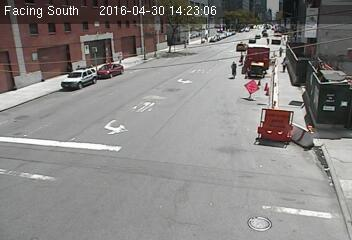neg: (59, 68, 84, 102), (113, 54, 138, 87), (247, 200, 268, 228), (170, 169, 189, 195), (164, 84, 183, 110), (118, 120, 133, 140), (282, 112, 297, 132)
pos: (227, 58, 243, 80)
